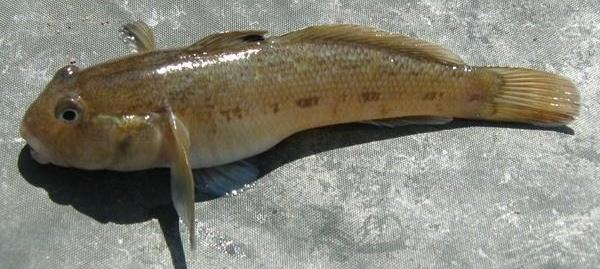Goby: (20, 18, 583, 252)
